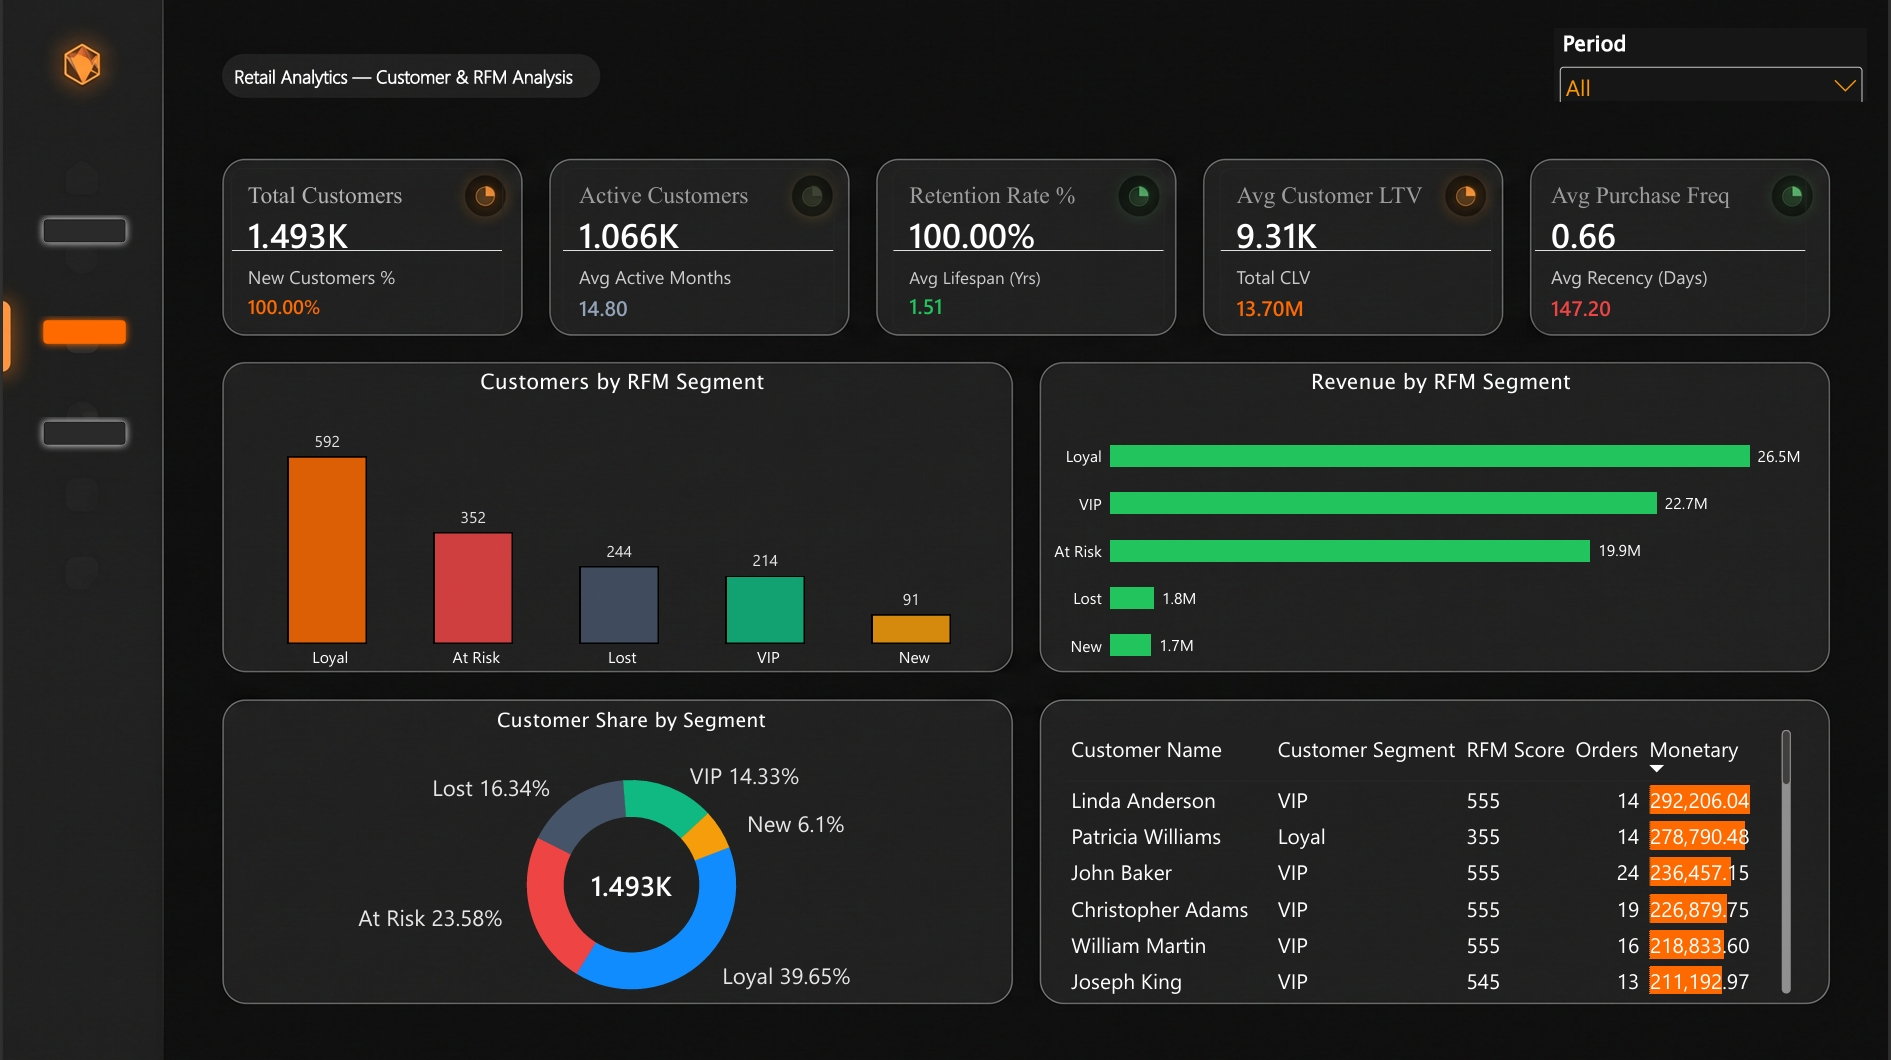

Layout of this report page (visuals, bound fields, positions):
{"tool":"powerbi","page":{"name":"Customer & RFM","canvas":[1920,1080],"ordinal":1},"visuals":[{"type":"textbox","box":[127,66.3,563.2,36.8],"z":0},{"type":"slicer","fields":{"Values":["Calendar.MMM-YYYY"]},"box":[1579.6,29.6,317.9,73.5],"z":1000},{"type":"cardVisual","fields":{"Data":["Customer_Dim.Count of Customer_ID"]},"box":[233.3,172.2,277,167],"z":2000},{"type":"cardVisual","fields":{"Data":["Customer_Dim.Sum of Is_Active"]},"box":[570.4,172.2,277,167],"z":3000},{"type":"cardVisual","fields":{"Data":["Customer_Dim.CRR %"]},"box":[905.6,172.2,277,167],"z":4000},{"type":"cardVisual","fields":{"Data":["Customer_Dim.Average of CLV"]},"box":[1238.9,172.2,277,167],"z":5000},{"type":"cardVisual","fields":{"Data":["Avg(Customer_Dim.Purchase_Frequency)"]},"box":[1559.3,172.2,277,167],"z":6000},{"type":"clusteredColumnChart","title":"Customers by RFM Segment","fields":{"Category":["Customer_Dim.Customer_Segment"],"Y":["Customer_Dim.Count of Customer_ID"]},"box":[233.3,374.1,796.3,313],"z":7000},{"type":"clusteredBarChart","title":"Revenue by RFM Segment","fields":{"Category":["Customer_Dim.Customer_Segment"],"Y":["Sum(Customer_Dim.Monetry)"]},"box":[1064.8,374.1,798.1,316.7],"z":8000},{"type":"donutChart","title":"Customer Share by Segment","fields":{"Category":["Customer_Dim.Customer_Segment"],"Y":["Customer_Dim.Count of Customer_ID"]},"box":[233.7,704.9,813,347.9],"z":9000},{"type":"tableEx","title":"Top 10 VIP Customers","fields":{"Values":["Customer_Dim.Customer_Name","Customer_Dim.Customer_Segment","Customer_Dim.RFM_Score","Sum(Customer_Dim.Frequency)","Sum(Customer_Dim.Monetry)"]},"box":[1066.2,729.9,770.1,298.1],"z":10000},{"type":"actionButton","box":[34.4,422.3,100,40],"z":10001},{"type":"actionButton","box":[34.4,215.9,100,40],"z":10002},{"type":"actionButton","box":[34.4,319.1,100,40],"z":10003}]}

Visuals, with their boxes on the page's 1920x1080 design canvas (x1, y1, x2, y2). These are canvas units, not pixel positions in the 1891x1060 screenshot, which may show the page scaled, cropped or inside an application window:
textbox: region(127, 66, 690, 103)
slicer - Calendar.MMM-YYYY: region(1580, 30, 1898, 103)
cardVisual - Customer_Dim.Count of Customer_ID: region(233, 172, 510, 339)
cardVisual - Customer_Dim.Sum of Is_Active: region(570, 172, 847, 339)
cardVisual - Customer_Dim.CRR %: region(906, 172, 1183, 339)
cardVisual - Customer_Dim.Average of CLV: region(1239, 172, 1516, 339)
cardVisual - Avg(Customer_Dim.Purchase_Frequency): region(1559, 172, 1836, 339)
"Customers by RFM Segment" clusteredColumnChart: region(233, 374, 1030, 687)
"Revenue by RFM Segment" clusteredBarChart: region(1065, 374, 1863, 691)
"Customer Share by Segment" donutChart: region(234, 705, 1047, 1053)
"Top 10 VIP Customers" tableEx: region(1066, 730, 1836, 1028)
actionButton: region(34, 422, 134, 462)
actionButton: region(34, 216, 134, 256)
actionButton: region(34, 319, 134, 359)
